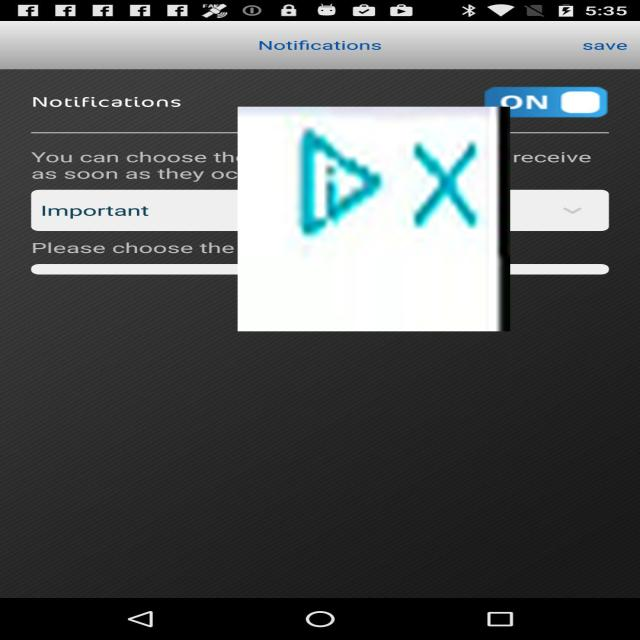sneaking: (238, 107, 510, 331)
